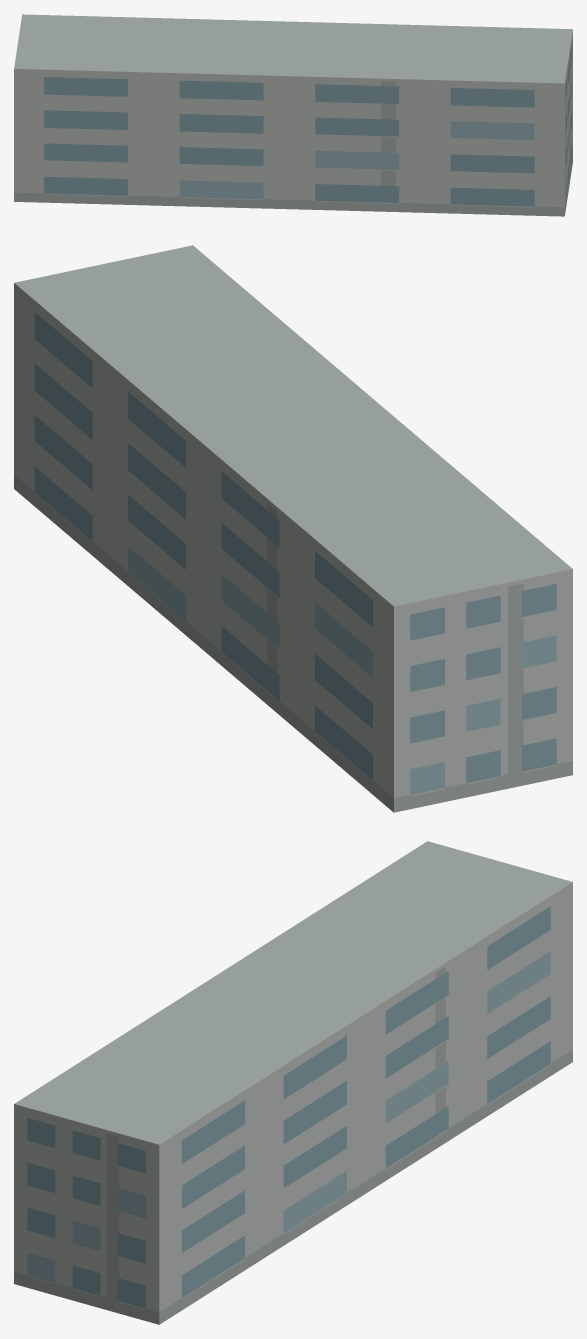
Rendered from residential-28f91fdb-de9c-4d94-ab6c-f5dee5da8bb3.glb.
The picture shows the model from 3 angles, top to bottom: view 1: azimuth 30°, elevation 25°; view 2: azimuth 150°, elevation 25°; view 3: azimuth 270°, elevation 25°; orthographic projection. The views are drawn at different scales.
Visible parts, largest first — view 1: residential-28f91fdb-de9c-4d94-ab6c-f5dee5da8bb3.tmp; view 2: residential-28f91fdb-de9c-4d94-ab6c-f5dee5da8bb3.tmp; view 3: residential-28f91fdb-de9c-4d94-ab6c-f5dee5da8bb3.tmp.
Part boxes in pixels (<box>): residential-28f91fdb-de9c-4d94-ab6c-f5dee5da8bb3.tmp: <box>14,14,572,216</box>; residential-28f91fdb-de9c-4d94-ab6c-f5dee5da8bb3.tmp: <box>14,245,572,812</box>; residential-28f91fdb-de9c-4d94-ab6c-f5dee5da8bb3.tmp: <box>14,841,572,1324</box>.
Size of the model in its own units: 44.13 by 12.2 by 34.33.
